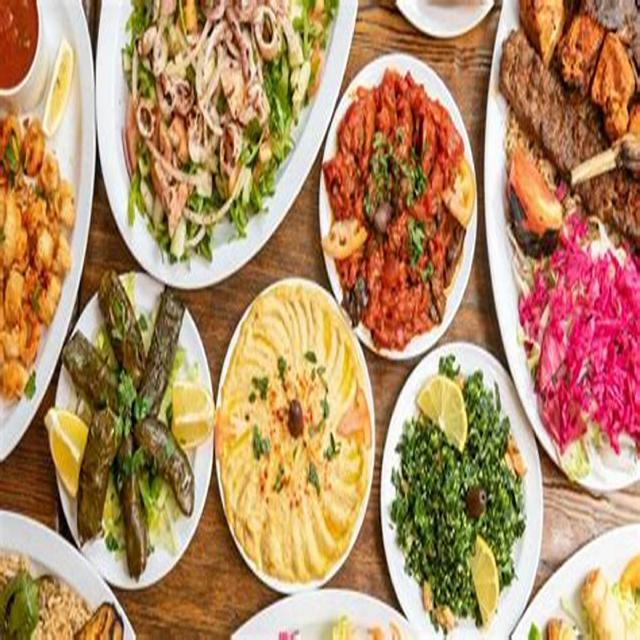ca nuong: (76, 278, 202, 560)
kimchi: (322, 52, 488, 341)
muc xao: (100, 0, 322, 239)
trung chien: (218, 299, 366, 594)
